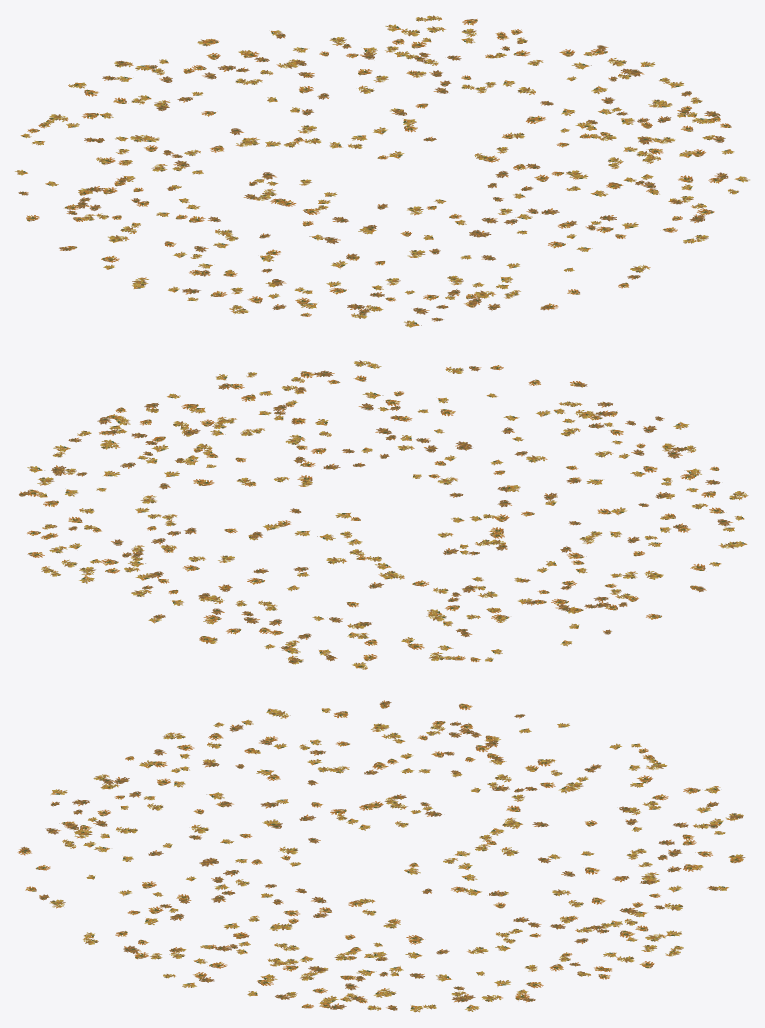
Rendered from chataignier_adulte_c.fbx.
The picture shows the model from 3 angles, top to bottom: view 1: azimuth 30°, elevation 25°; view 2: azimuth 150°, elevation 25°; view 3: azimuth 270°, elevation 25°; orthographic projection.
Visible parts, largest first — view 1: chataignier_adulte_c_feuilles_sol; view 2: chataignier_adulte_c_feuilles_sol; view 3: chataignier_adulte_c_feuilles_sol.
Boxes of the visible parts, left/top/right/bottom form: chataignier_adulte_c_feuilles_sol: left=15, top=15, right=749, bottom=327; chataignier_adulte_c_feuilles_sol: left=19, top=360, right=748, bottom=669; chataignier_adulte_c_feuilles_sol: left=17, top=700, right=745, bottom=1012.
Size of what is drawn, in the model's own units: 16.42 by 0.00596 by 16.26.
